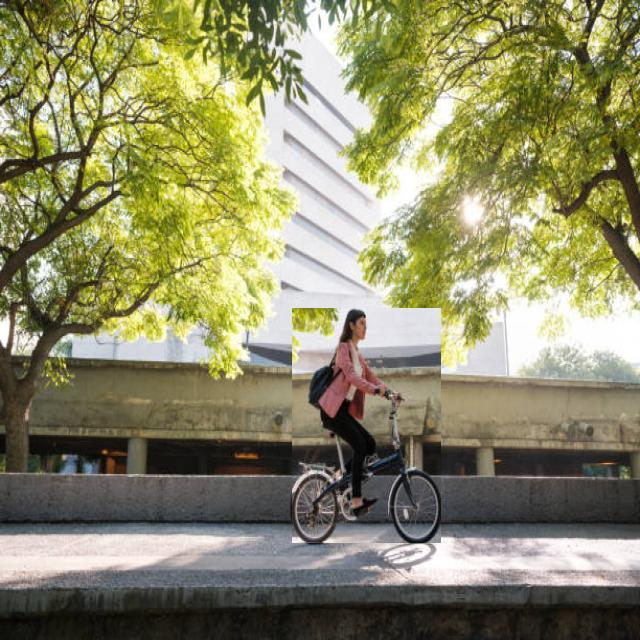bicycle: (292, 309, 440, 543)
